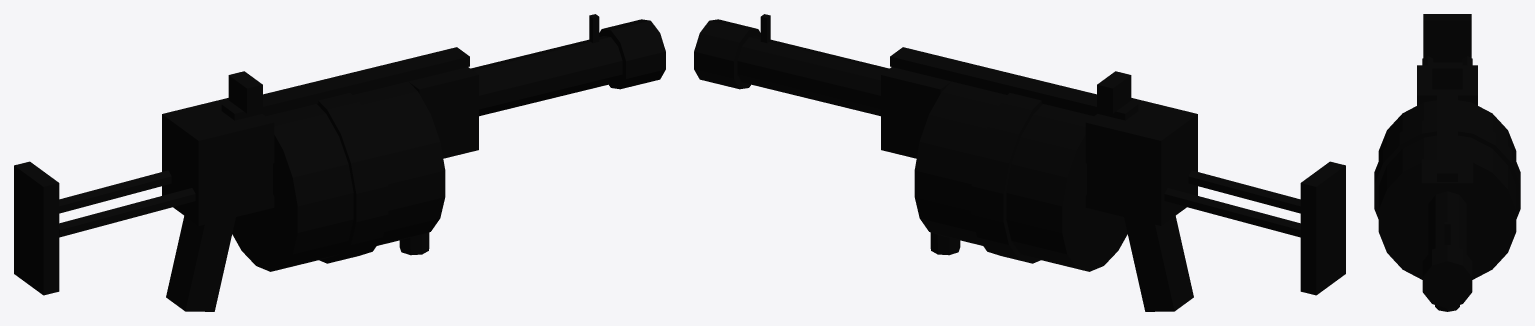
Rendered from grenade_launcher.glb.
3 views of the same model, side by side, from view 1: azimuth 30°, elevation 25°; view 2: azimuth 150°, elevation 25°; view 3: azimuth 270°, elevation 25° (orthographic). The views are drawn at different scales.
Parts seen in each view (by area): view 1: grenade_launcher; view 2: grenade_launcher; view 3: grenade_launcher.
Part boxes in pixels (left/top/right/bottom): grenade_launcher: left=14, top=14, right=665, bottom=311; grenade_launcher: left=694, top=14, right=1345, bottom=311; grenade_launcher: left=1374, top=14, right=1520, bottom=311.
Bounding box in the file's own units: 0.782 × 0.2577 × 0.193.
Materials: 1 (1 with a texture image).
